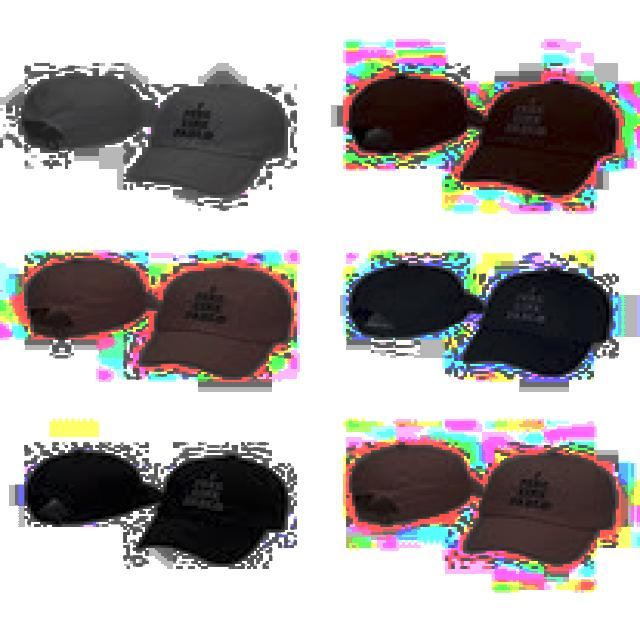TOPI: (120, 76, 288, 198), (452, 74, 618, 195), (126, 448, 288, 564), (461, 445, 615, 566), (130, 263, 294, 374), (458, 261, 612, 374), (337, 61, 482, 150), (343, 248, 482, 337), (18, 242, 152, 334), (15, 63, 154, 150), (15, 442, 161, 522), (343, 440, 473, 521)
